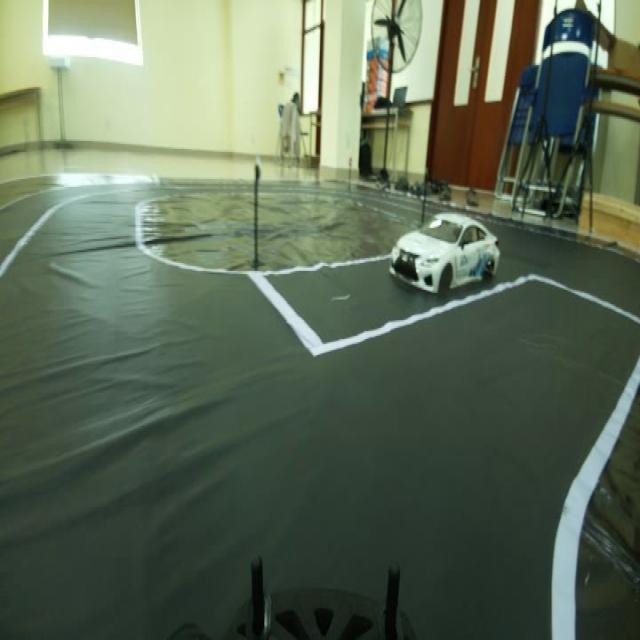car: (389, 198, 502, 306)
